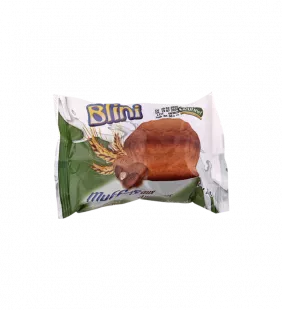BILINI: (44, 84, 237, 228)
